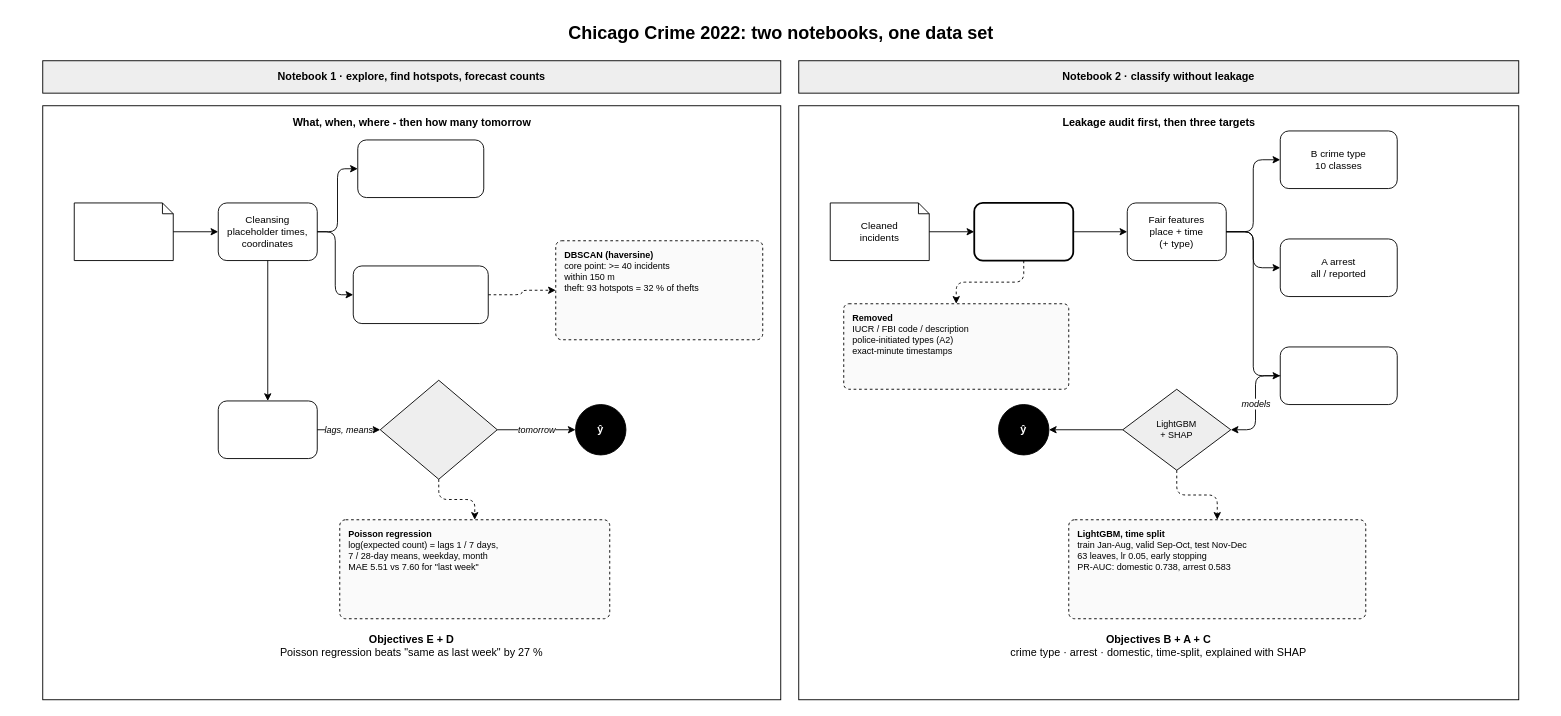
Some shapes in this 1561 by 716 pixel diagram are drawn without their labels. The shapes that lost their labels are listed below. From the top down, each one's box as (x1, y1, x2, y2) in pixels, then its label:
(357, 139, 484, 198): EDA + tests when / where / arrests
(73, 202, 173, 261): 239,558 incidents
(973, 202, 1074, 261): Leakage audit 4 kinds removed
(352, 265, 488, 324): Hotspots DBSCAN + kernel density
(1279, 346, 1397, 405): C domestic
(217, 400, 317, 459): Daily counts per district
(379, 379, 497, 479): Poisson / LightGBM vs baselines
